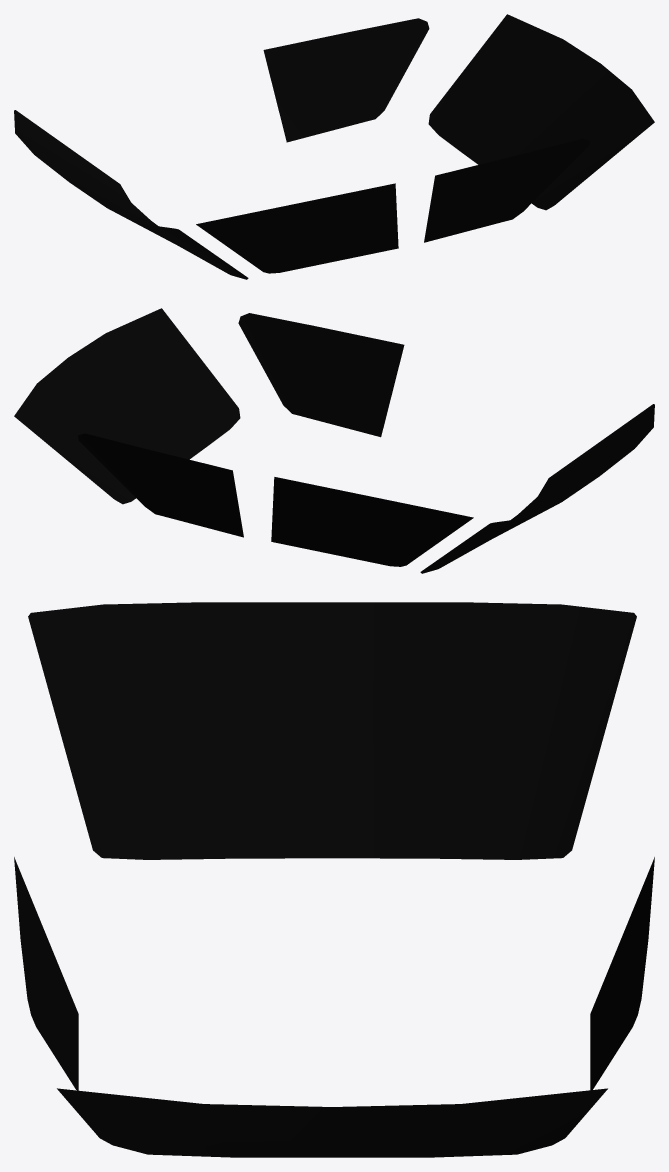
File: M3_glass.obj
The picture shows the model from 3 angles, top to bottom: view 1: azimuth 30°, elevation 25°; view 2: azimuth 150°, elevation 25°; view 3: azimuth 270°, elevation 25°; orthographic projection. The views are drawn at different scales.
Size of the model in its own units: 2.54 by 0.4664 by 1.42.
Materials: 1 (1 with a texture image).
